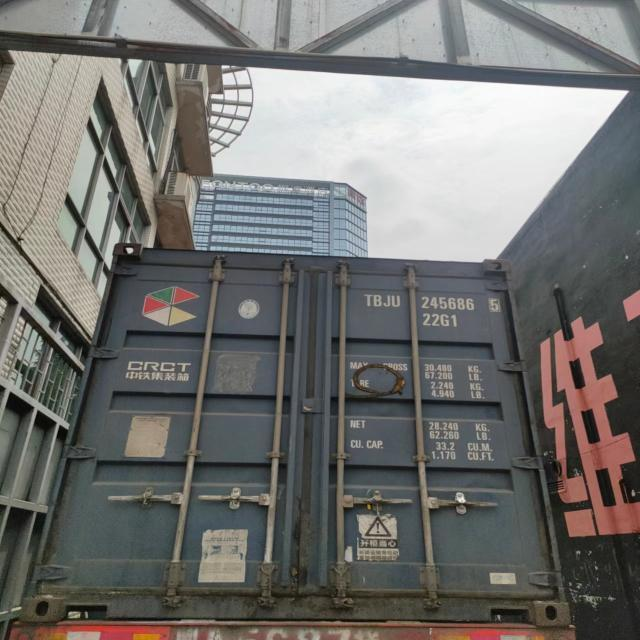ISO: (424, 313, 459, 330)
container_number: (365, 292, 496, 312)
